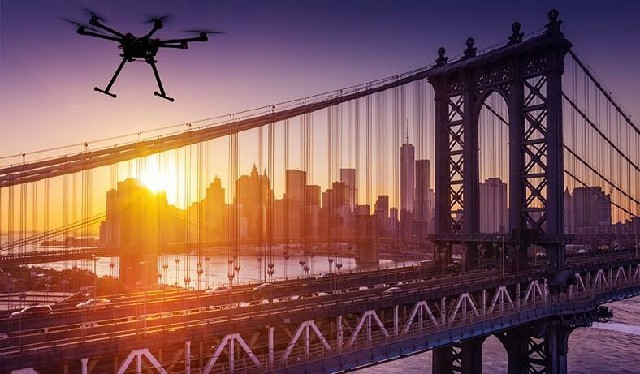maybay_khongnguoilai: (64, 3, 206, 111)
